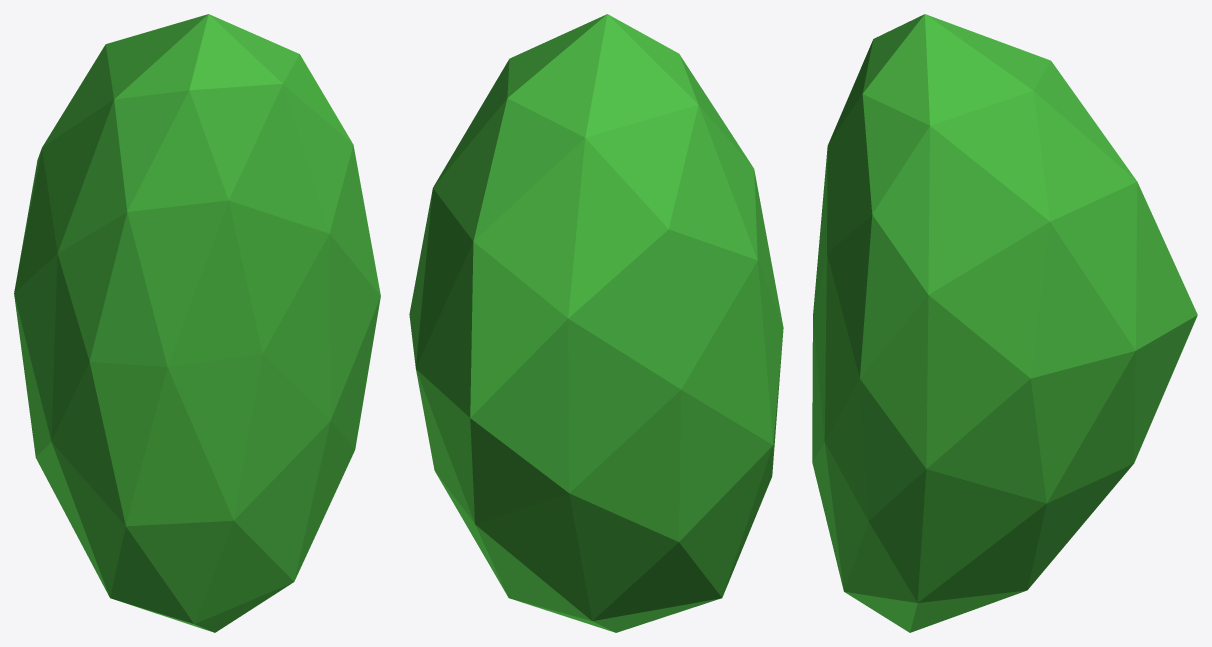
Rendered from ENVI_bush_2.fbx.
The picture shows the model from 3 angles, left to right: view 1: azimuth 30°, elevation 25°; view 2: azimuth 150°, elevation 25°; view 3: azimuth 270°, elevation 25°; orthographic projection.
Parts seen in each view (by area): view 1: bush 2; view 2: bush 2; view 3: bush 2.
Part boxes in pixels (x1,y1,x2,y2): bush 2: (14,14,380,632); bush 2: (409,14,783,632); bush 2: (812,14,1197,632).
Size of the model in its own units: 147 by 277 by 157.
